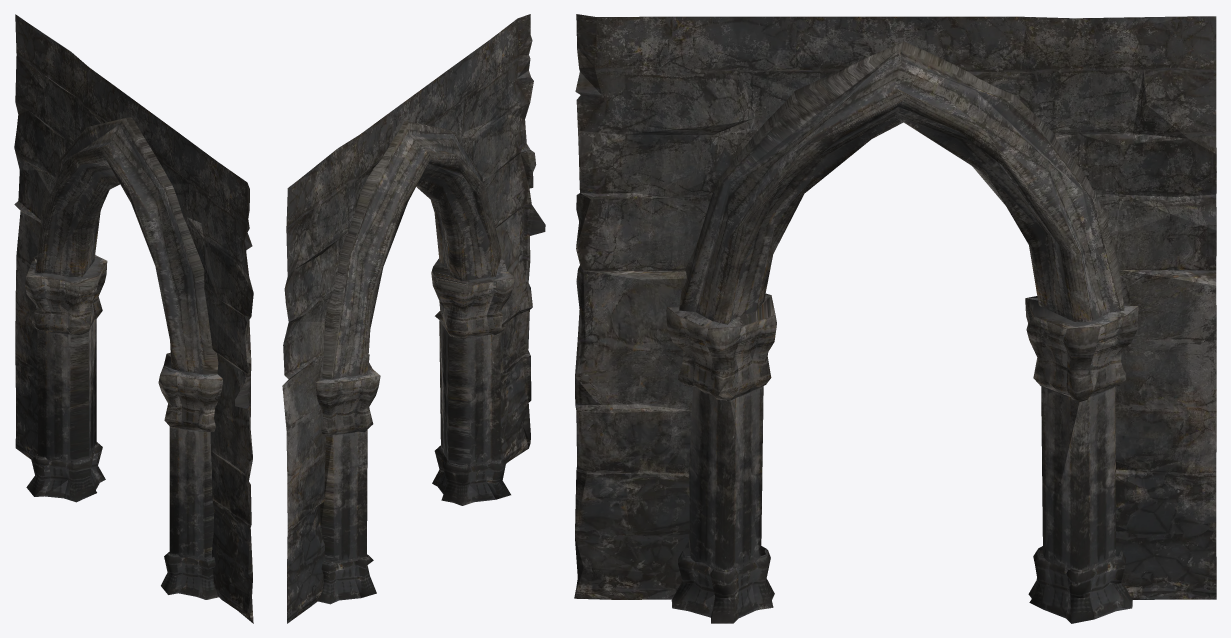
Rendered from shg_Arch_REF.glb.
3 renders of one model, left to right at view 1: azimuth 30°, elevation 25°; view 2: azimuth 150°, elevation 25°; view 3: azimuth 270°, elevation 25°, orthographic. The views are drawn at different scales.
Visible parts, largest first — view 1: shg Arch REF.003; view 2: shg Arch REF.003; view 3: shg Arch REF.003.
Part boxes in pixels (<box>): shg Arch REF.003: <box>14,14,253,623</box>; shg Arch REF.003: <box>282,14,545,623</box>; shg Arch REF.003: <box>574,14,1216,623</box>.
Size of the model in its own units: 0.8296 by 4.22 by 4.21.
2 materials, 2 textured.
